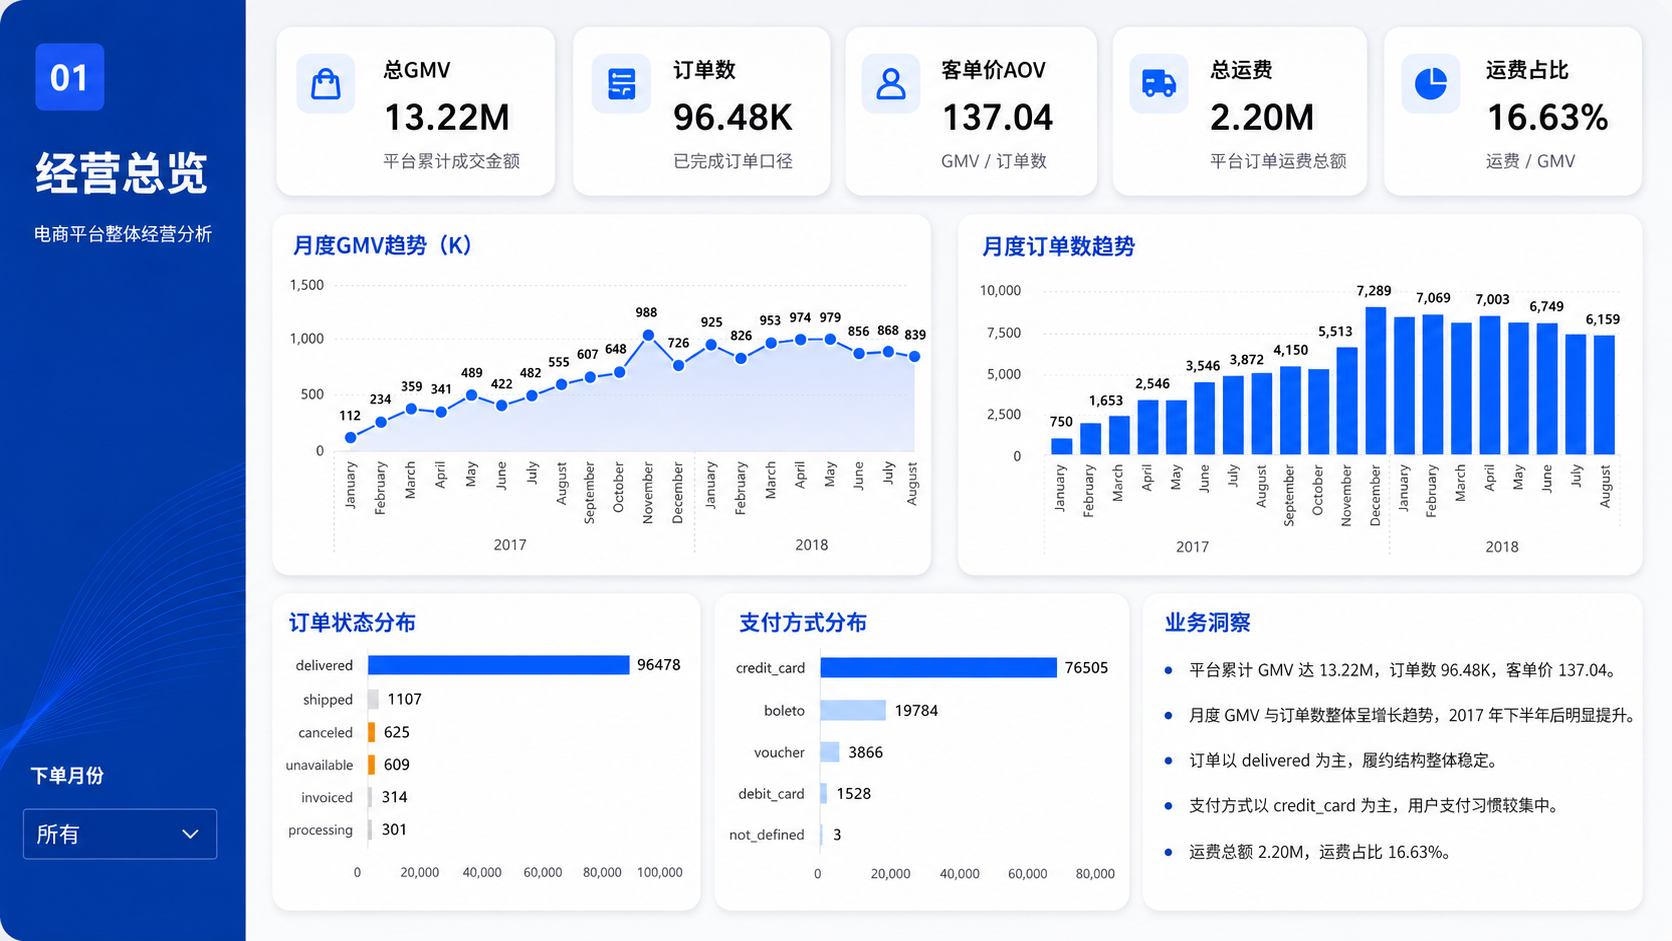

This screenshot's page, from the dashboard's own definition file:
{"tool":"powerbi","page":{"name":"经营总览","canvas":[1280,720],"ordinal":0},"visuals":[{"type":"shape","box":[0,0,210.3,720.2],"z":1000},{"type":"textbox","box":[18,18,58,58.9],"z":2000},{"type":"textbox","box":[18.3,91.7,167.5,80.7],"z":3000},{"type":"textbox","box":[19.6,160.2,181,34.2],"z":4000},{"type":"textbox","box":[18.3,560.1,160.2,30.6],"z":5000},{"type":"slicer","fields":{"Values":["ads_monthly_business_trend_stable.order_month"]},"box":[18,600,165,70],"z":6000},{"type":"cardVisual","title":"总GMV","fields":{"Data":["ads_business_overview.总gmv显示"]},"box":[451.2,30.6,183.4,107.6],"z":7000},{"type":"cardVisual","title":"运费占比","fields":{"Data":["ads_business_overview.总运费显示"]},"box":[873.1,30.6,182.2,107.6],"z":8000},{"type":"cardVisual","title":"总运费","fields":{"Data":["ads_business_overview.总运费显示"]},"box":[662.8,30.6,182.2,107.6],"z":9000},{"type":"cardVisual","title":"客单家AOV","fields":{"Data":["ads_business_overview.客单价AOV显示"]},"box":[229.9,30.6,193.2,107.6],"z":10000},{"type":"cardVisual","title":"订单数","fields":{"Data":["ads_business_overview.订单数显示"]},"box":[1083.4,30.6,182.2,107.6],"z":11000},{"type":"lineChart","title":"月度GMV趋势（K）","fields":{"Y":["ads_monthly_business_trend_stable.月度GMV_K"],"Category":["ads_monthly_business_trend_stable.order_month_date.变体.日期层次结构.年","ads_monthly_business_trend_stable.order_month_date.变体.日期层次结构.月份"]},"box":[231.1,160.2,478.1,253.1],"z":12000},{"type":"clusteredColumnChart","title":"月度订单数趋势","fields":{"Category":["ads_monthly_business_trend_stable.order_month_date.变体.日期层次结构.年","ads_monthly_business_trend_stable.order_month_date.变体.日期层次结构.月份"],"Y":["ads_monthly_business_trend_stable.月度订单数"]},"box":[754.5,161.4,506.3,251.9],"z":13000},{"type":"clusteredBarChart","title":"订单状态分布","fields":{"Category":["ads_order_status_analysis.order_status"],"Y":["Sum(ads_order_status_analysis.order_count)"]},"box":[231.1,448.8,479.4,220.1],"z":14000},{"type":"clusteredBarChart","title":"支付方式分布（按订单数）","fields":{"Category":["ads_payment_type_analysis.payment_type"],"Y":["Sum(ads_payment_type_analysis.order_count)"]},"box":[755.7,450,505,220.1],"z":15000}]}

Visuals, with their boxes in screenshot pixels (x1, y1, x2, y2), scaled from the page's 1280x720 canvas onto the 1672x941 screenshot:
shape: select_region(0, 0, 275, 940)
textbox: select_region(24, 24, 99, 101)
textbox: select_region(24, 120, 243, 225)
textbox: select_region(26, 209, 262, 254)
textbox: select_region(24, 732, 233, 772)
slicer - ads_monthly_business_trend_stable.order_month: select_region(24, 784, 239, 876)
"总GMV" cardVisual: select_region(589, 40, 829, 181)
"运费占比" cardVisual: select_region(1140, 40, 1378, 181)
"总运费" cardVisual: select_region(866, 40, 1104, 181)
"客单家AOV" cardVisual: select_region(300, 40, 553, 181)
"订单数" cardVisual: select_region(1415, 40, 1653, 181)
"月度GMV趋势（K）" lineChart: select_region(302, 209, 926, 540)
"月度订单数趋势" clusteredColumnChart: select_region(986, 211, 1647, 540)
"订单状态分布" clusteredBarChart: select_region(302, 587, 928, 874)
"支付方式分布（按订单数）" clusteredBarChart: select_region(987, 588, 1647, 876)
